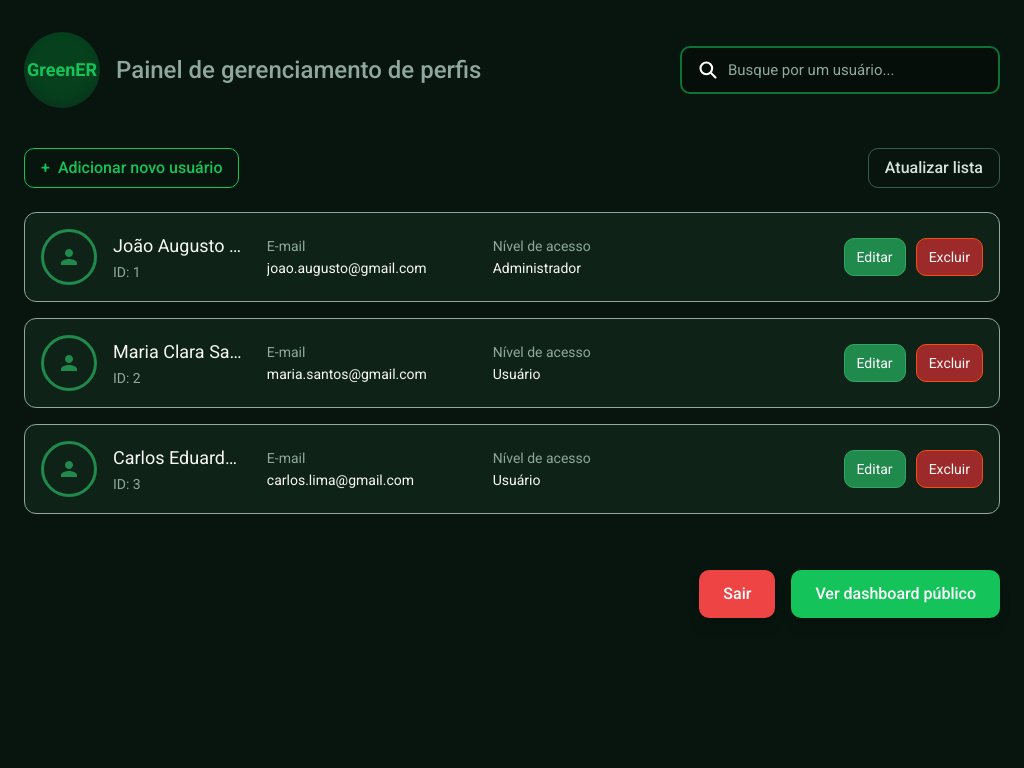
Scenario: painel administrativo integrado › informa erro ao tentar cadastrar e-mail duplicado (409)
Click the button "+ Adicionar novo usuário" at (132, 168), box [24,148,240,188]
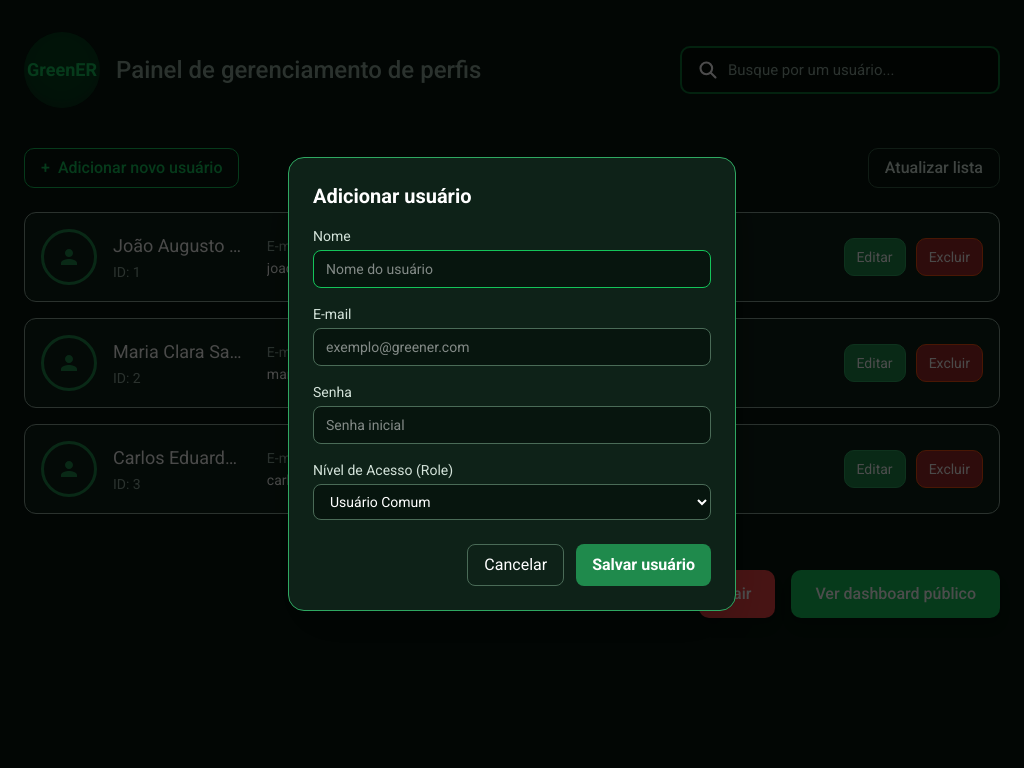
Type "Duplicado" into the field with placeholder "Nome do usuário" at (512, 269), box [313,250,711,288]
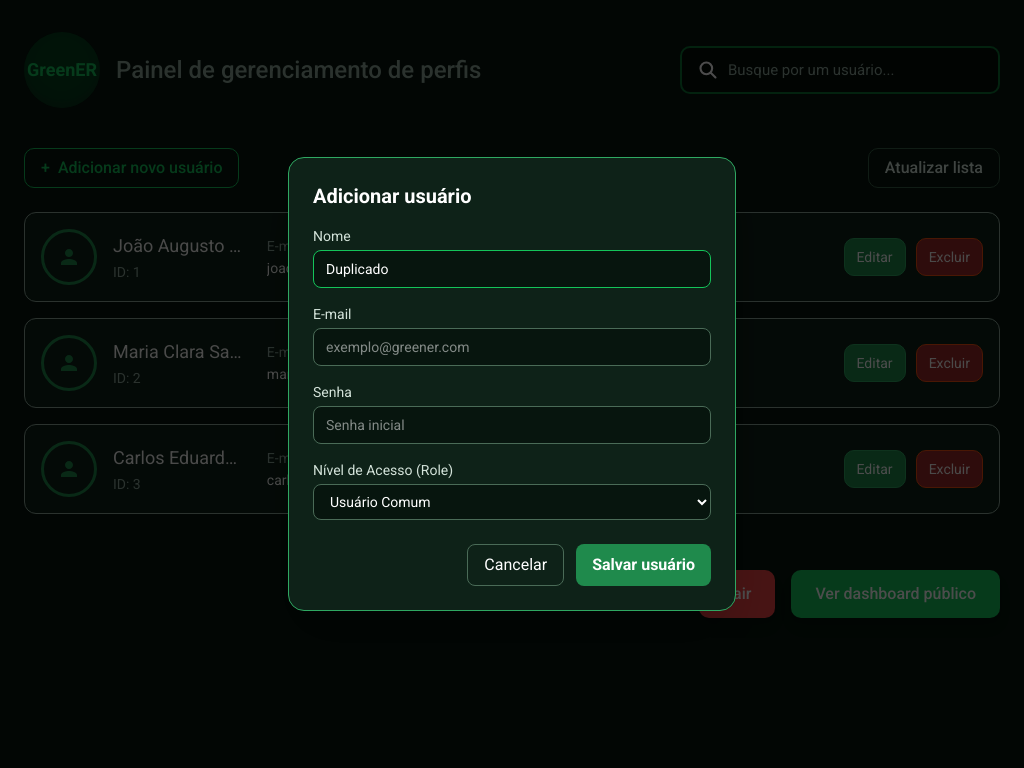
Type "duplicado@example.com" into the field with placeholder "exemplo@greener.com" at (512, 347), box [313,328,711,366]
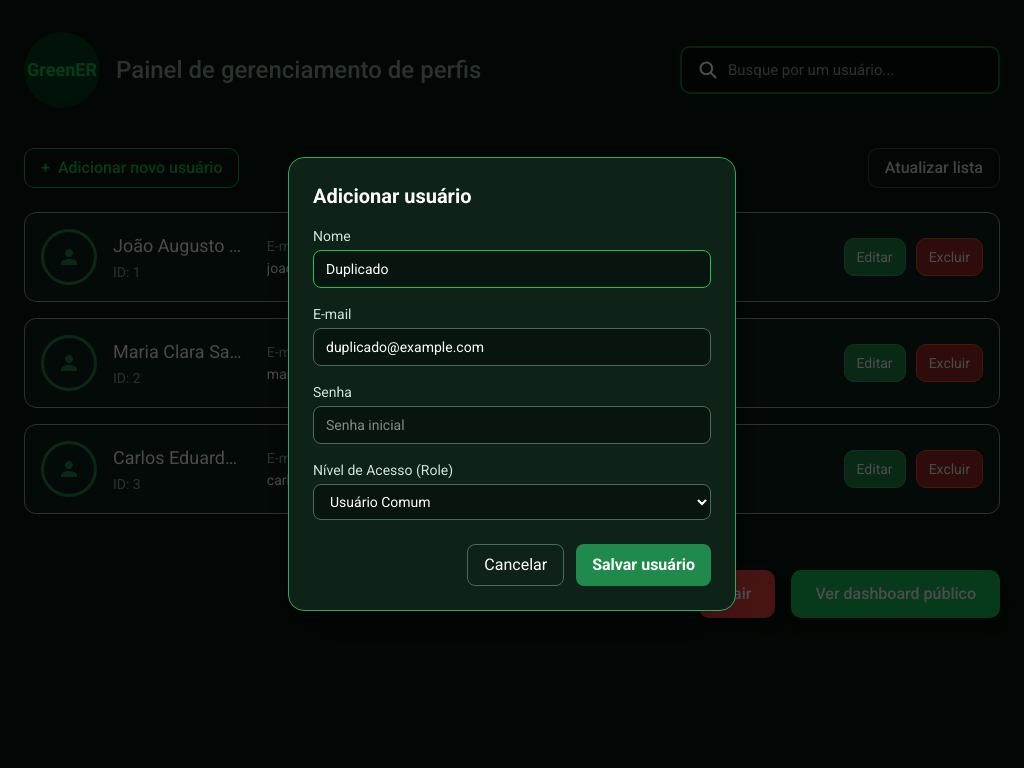
Type "senha123" into the password field with placeholder "Senha inicial" at (512, 425), box [313,406,711,444]
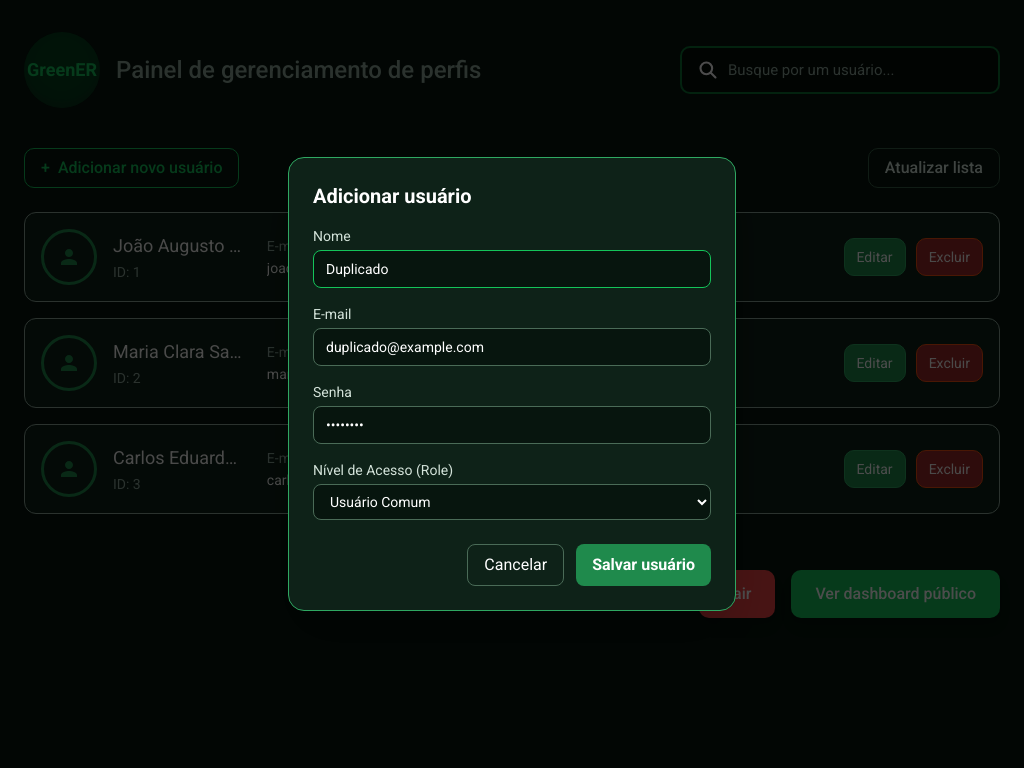
Click the button "Salvar usuário" at (644, 565), box [576,544,711,586]
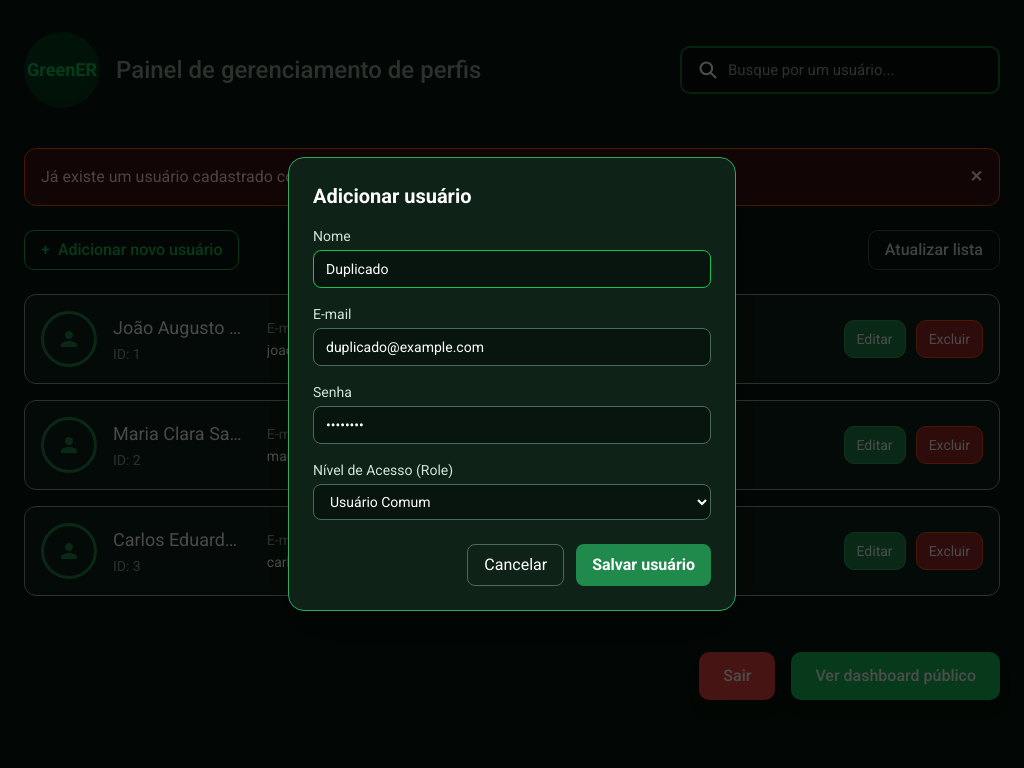
Check: the message shows "Já existe um usuário cadastrado com o e-mail", box [41,167,566,186]
